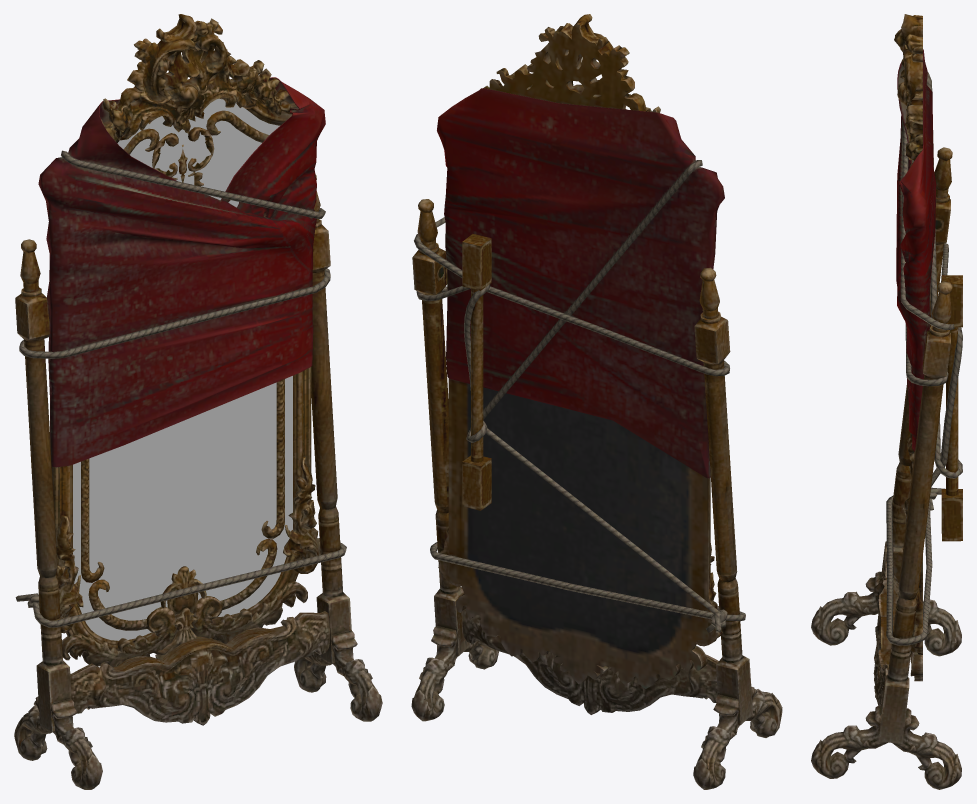
The model's file is Mirror.fbx.
3 views of the same model, side by side, from view 1: azimuth 30°, elevation 25°; view 2: azimuth 150°, elevation 25°; view 3: azimuth 270°, elevation 25° (orthographic). The views are drawn at different scales.
Parts seen in each view (by area): view 1: set_0_group_2, set_0_group_1; view 2: set_0_group_2; view 3: set_0_group_2.
Boxes of the visible parts, box(x1,y1,x2,y2) form: set_0_group_2: box(14, 14, 382, 789); set_0_group_1: box(73, 98, 292, 640); set_0_group_2: box(411, 14, 782, 789); set_0_group_2: box(811, 14, 962, 789).
Size of the model in its own units: 89.54 by 201 by 39.16.
